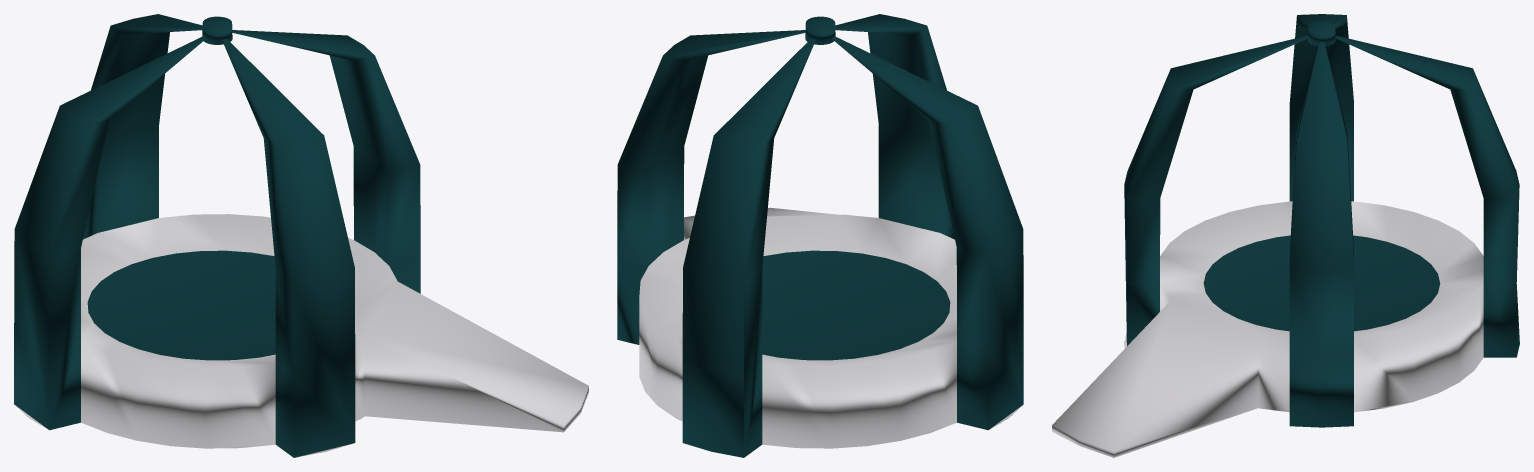
File: medbayScanner.fbx
3 views of the same model, side by side, from view 1: azimuth 30°, elevation 25°; view 2: azimuth 150°, elevation 25°; view 3: azimuth 270°, elevation 25° (orthographic). The views are drawn at different scales.
Visible parts, largest first — view 1: MedBaySensor; view 2: MedBaySensor; view 3: MedBaySensor.
Boxes of the visible parts, x1,y1,x2,y2 form: MedBaySensor: [14, 14, 588, 457]; MedBaySensor: [617, 14, 1023, 457]; MedBaySensor: [1052, 14, 1519, 457].
Size of the model in its own units: 1907 by 1429 by 1907.
